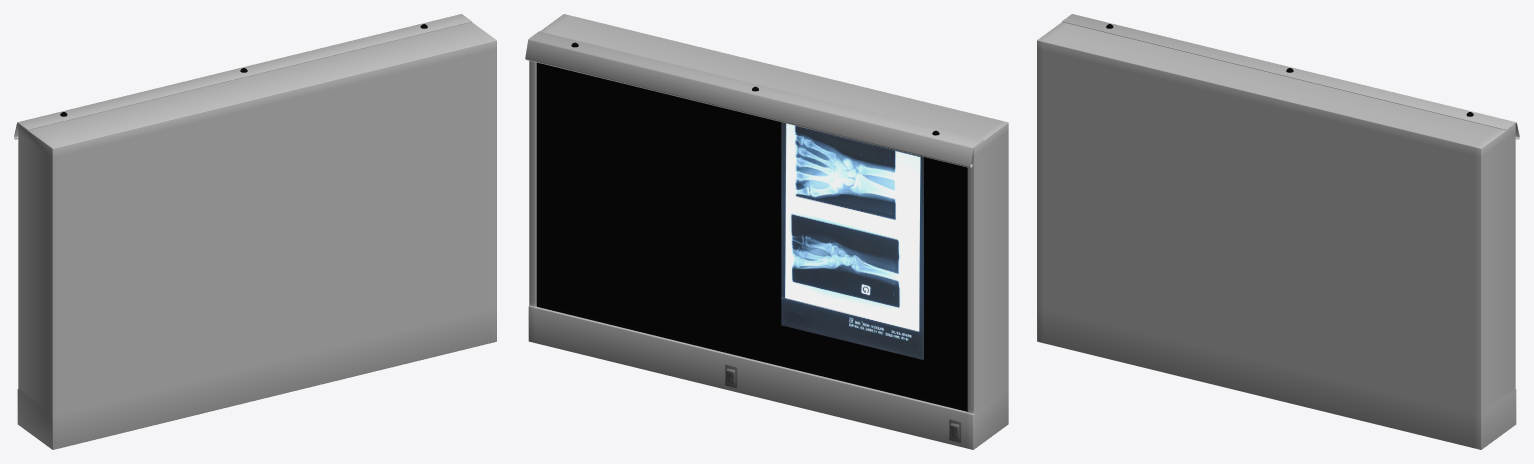
Rendered from XRayWallDisplay.fbx.
The picture shows the model from 3 angles, left to right: view 1: azimuth 30°, elevation 25°; view 2: azimuth 150°, elevation 25°; view 3: azimuth 330°, elevation 25°; orthographic projection.
Visible parts, largest first — view 1: 2_screen_X_ray_film_viewer; view 2: 2_screen_X_ray_film_viewer, X_ray; view 3: 2_screen_X_ray_film_viewer.
Part boxes in pixels (x1=…): 2_screen_X_ray_film_viewer: x1=14, y1=14, x2=496, y2=449; 2_screen_X_ray_film_viewer: x1=525, y1=14, x2=1008, y2=449; X_ray: x1=781, y1=122, x2=923, y2=359; 2_screen_X_ray_film_viewer: x1=1037, y1=14, x2=1519, y2=449.
Bounding box in the file's own units: 74 × 48.55 × 11.13.
